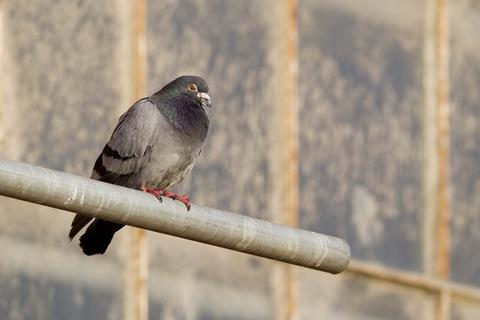Flying Rat: (70, 70, 212, 275)
